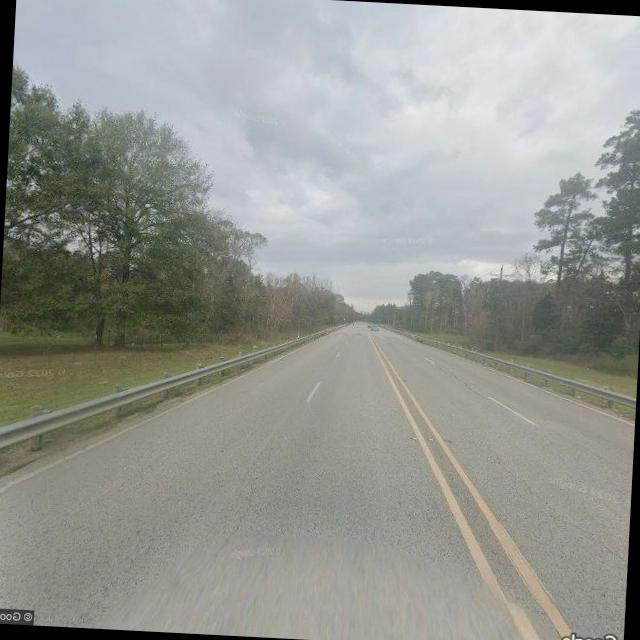pothole: (466, 434, 634, 564), (428, 359, 492, 400), (224, 474, 260, 543)
